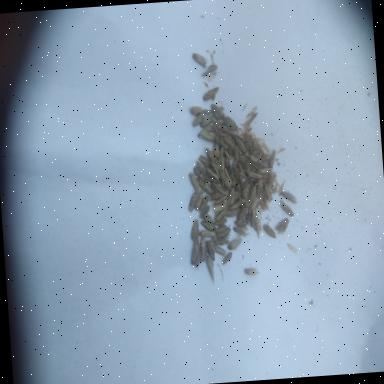pbw: (205, 254, 215, 286), (278, 198, 294, 217), (218, 137, 234, 156), (186, 190, 199, 213), (188, 171, 200, 195), (262, 222, 278, 240), (222, 132, 236, 152), (198, 234, 208, 262), (226, 234, 243, 250), (274, 218, 290, 235), (202, 86, 220, 101), (247, 195, 261, 214), (228, 130, 248, 143), (210, 194, 230, 207), (199, 112, 215, 128), (192, 52, 208, 68), (191, 110, 206, 127), (198, 129, 216, 143), (280, 190, 298, 204), (248, 153, 264, 168), (234, 171, 246, 191), (197, 152, 212, 168), (246, 184, 258, 204), (196, 195, 210, 212), (196, 124, 213, 138), (200, 63, 218, 76), (210, 103, 222, 122), (233, 224, 249, 238), (190, 218, 200, 240), (234, 136, 246, 154), (210, 160, 220, 181), (228, 158, 238, 179), (253, 138, 264, 157), (200, 219, 216, 232), (231, 188, 244, 204), (226, 184, 236, 204), (244, 176, 255, 194), (255, 178, 264, 200), (205, 146, 216, 164), (198, 226, 216, 237), (213, 243, 227, 257), (214, 208, 228, 222), (216, 226, 231, 239), (193, 244, 201, 268), (206, 190, 222, 202), (204, 180, 216, 196), (216, 145, 226, 164), (224, 206, 241, 217), (236, 206, 249, 220), (265, 173, 278, 187), (202, 212, 216, 225), (212, 236, 230, 246), (267, 150, 277, 168), (254, 166, 272, 176), (212, 120, 222, 138), (264, 184, 274, 202), (237, 161, 247, 179), (196, 160, 207, 176), (220, 170, 228, 192), (196, 177, 207, 193), (193, 193, 203, 210), (243, 266, 260, 276), (203, 174, 220, 184), (243, 138, 256, 151), (198, 204, 210, 218), (220, 250, 232, 264), (238, 196, 252, 208), (190, 105, 204, 117), (224, 154, 231, 177), (201, 240, 209, 260), (212, 201, 228, 211), (262, 172, 272, 188), (234, 218, 250, 228), (233, 143, 241, 163), (214, 215, 228, 226), (212, 139, 220, 158), (207, 240, 214, 261), (208, 232, 219, 245), (249, 207, 256, 226), (218, 184, 229, 196), (193, 228, 201, 244), (253, 208, 260, 226), (228, 200, 240, 210), (198, 170, 206, 184), (241, 186, 249, 200), (248, 170, 262, 178), (261, 187, 267, 204), (210, 180, 219, 191), (255, 222, 261, 238), (223, 146, 231, 158), (218, 156, 224, 171), (243, 130, 253, 139), (234, 166, 240, 180), (202, 108, 212, 114)
